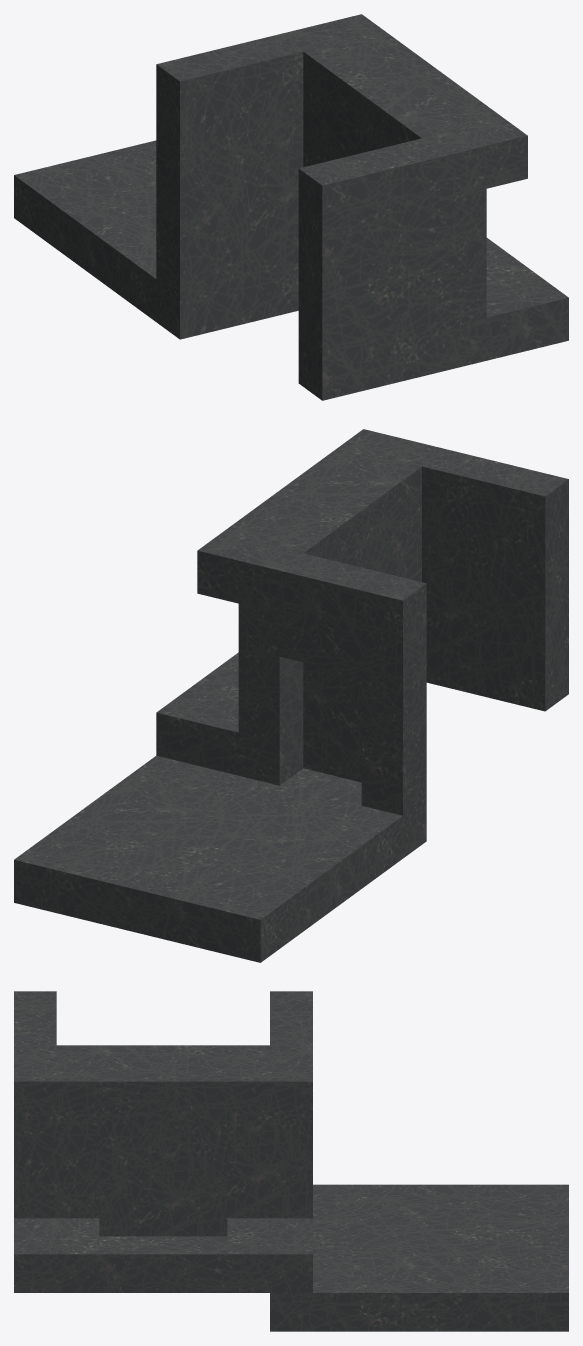
Rendered from Back_Wall_1.obj.
3 views of the same model, one above another, from view 1: azimuth 30°, elevation 25°; view 2: azimuth 150°, elevation 25°; view 3: azimuth 270°, elevation 25° (orthographic). The views are drawn at different scales.
Visible parts, largest first — view 1: b1; view 2: b1; view 3: b1.
Boxes of the visible parts, x1,y1,x2,y2 form: b1: (14, 14, 568, 400); b1: (14, 429, 568, 962); b1: (14, 991, 568, 1331).
Size of the model in its own units: 3 by 3 by 6.5.
